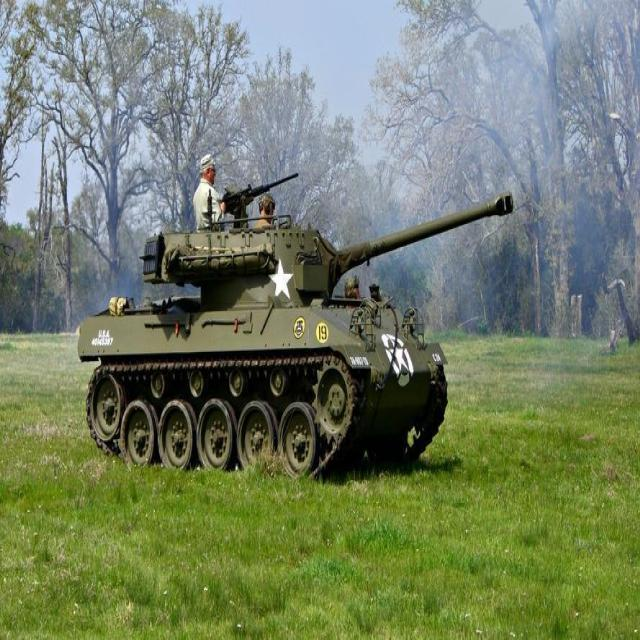Tanks: (80, 206, 451, 494)
